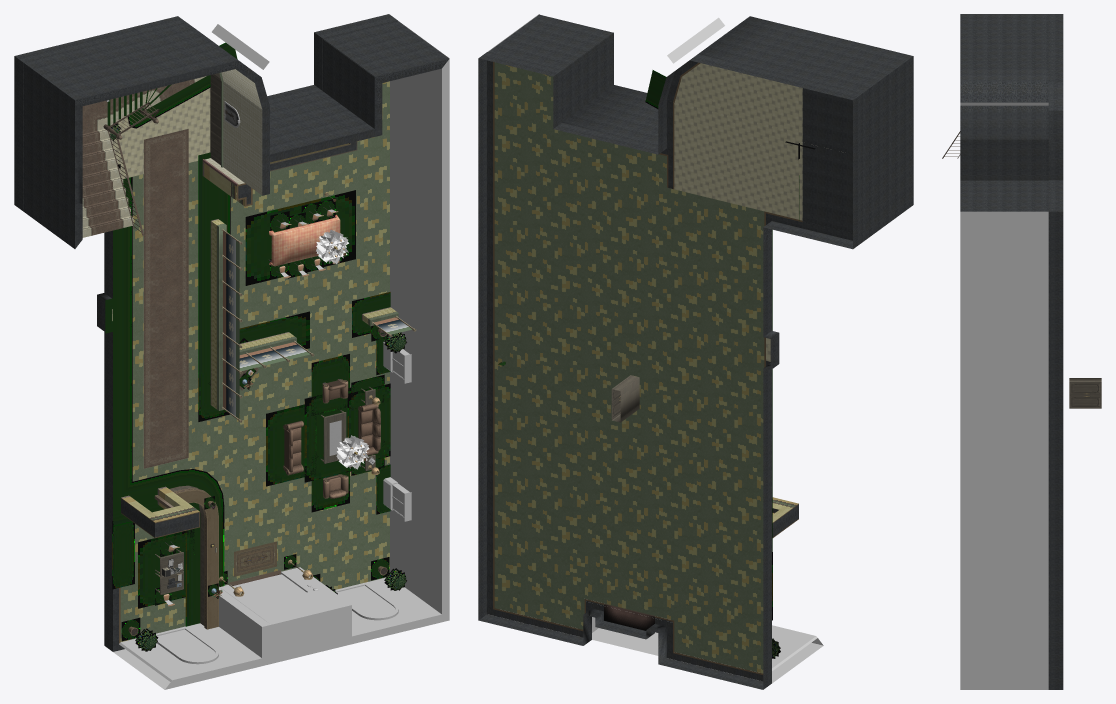
Rendered from iwatodai_dorm_floor_1.obj.
The picture shows the model from 3 angles, left to right: view 1: azimuth 30°, elevation 25°; view 2: azimuth 150°, elevation 25°; view 3: azimuth 270°, elevation 25°; orthographic projection. The views are drawn at different scales.
Visible parts, largest first — view 1: Atomic24.001_Mesh, Atomic15.001_Mesh, Atomic4.005_Mesh, Atomic24.013_Mesh, Atomic5_Mesh, Atomic24.016_Mesh, Atomic3.003_Mesh, Atomic0.002_Mesh, Atomic6_Mesh, Atomic6.004_Mesh, Atomic24.004_Mesh, Atomic4_Mesh (+26 smaller); view 2: Atomic24.001_Mesh, Atomic24.016_Mesh, Atomic24.002_Mesh, Atomic5_Mesh, Atomic3.003_Mesh, Atomic0.002_Mesh, Atomic1_Mesh, Atomic24.017_Mesh, Atomic6_Mesh, Atomic6.005_Mesh, Atomic15.001_Mesh, Atomic3.004_Mesh (+2 smaller); view 3: Atomic4_Mesh, Atomic5_Mesh, Atomic24.016_Mesh, Atomic0.002_Mesh, Atomic1_Mesh, Atomic3.005_Mesh, Atomic4.001_Mesh.
Boxes of the visible parts, x1,y1,x2,y2 form: Atomic24.001_Mesh: (120, 81, 389, 641); Atomic15.001_Mesh: (105, 42, 390, 641); Atomic4.005_Mesh: (390, 68, 441, 582); Atomic24.013_Mesh: (143, 128, 188, 468); Atomic5_Mesh: (23, 22, 269, 109); Atomic24.016_Mesh: (14, 14, 397, 651); Atomic3.003_Mesh: (23, 63, 82, 248); Atomic0.002_Mesh: (262, 39, 382, 195); Atomic6_Mesh: (113, 574, 448, 689); Atomic6.004_Mesh: (156, 567, 411, 672); Atomic24.004_Mesh: (169, 159, 398, 629); Atomic4_Mesh: (397, 20, 449, 620); Atomic24.001_Mesh: (494, 62, 764, 673); Atomic24.016_Mesh: (478, 52, 861, 689); Atomic24.002_Mesh: (674, 63, 802, 361); Atomic5_Mesh: (697, 16, 912, 93); Atomic3.003_Mesh: (861, 56, 913, 242); Atomic0.002_Mesh: (562, 32, 658, 145); Atomic1_Mesh: (488, 14, 613, 70); Atomic24.017_Mesh: (493, 62, 802, 674); Atomic6_Mesh: (592, 617, 823, 683); Atomic6.005_Mesh: (772, 629, 817, 670); Atomic15.001_Mesh: (645, 70, 772, 620); Atomic3.004_Mesh: (612, 375, 639, 422); Atomic4_Mesh: (960, 211, 1048, 689); Atomic5_Mesh: (960, 14, 1048, 139); Atomic24.016_Mesh: (1048, 14, 1063, 689); Atomic0.002_Mesh: (960, 139, 1048, 180); Atomic1_Mesh: (960, 181, 1048, 211); Atomic3.005_Mesh: (1069, 382, 1101, 408); Atomic4.001_Mesh: (960, 102, 1048, 105).
Size of the model in its own units: 2504 by 3900 by 1084.
